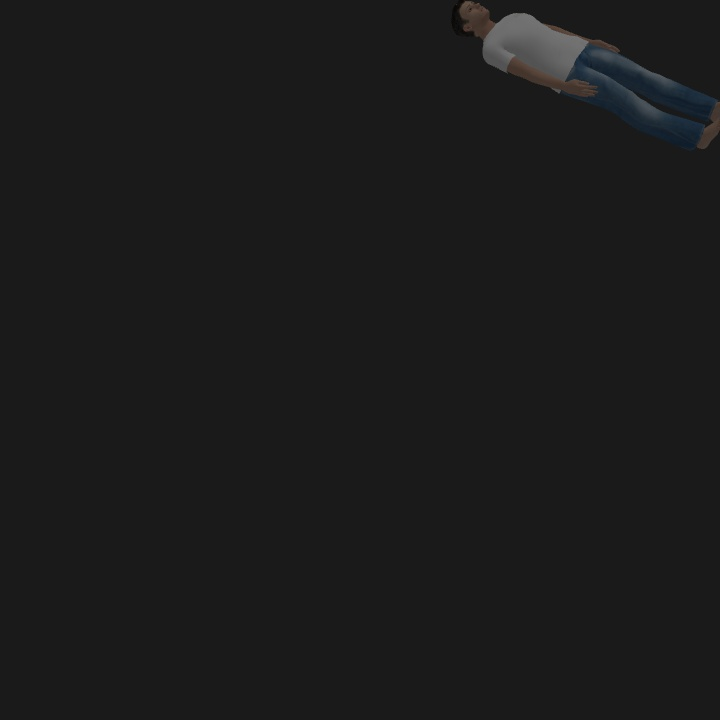victim: (450, 1, 718, 150)
